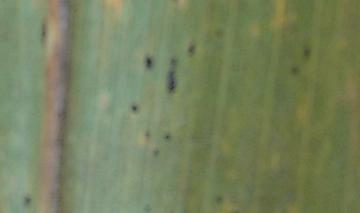tarspot: (167, 59, 178, 93), (303, 45, 312, 62), (145, 55, 153, 70), (188, 43, 196, 58), (129, 103, 139, 114), (151, 147, 161, 158), (216, 193, 225, 204), (290, 65, 299, 75), (143, 130, 151, 139), (25, 196, 32, 204), (164, 134, 171, 141)
